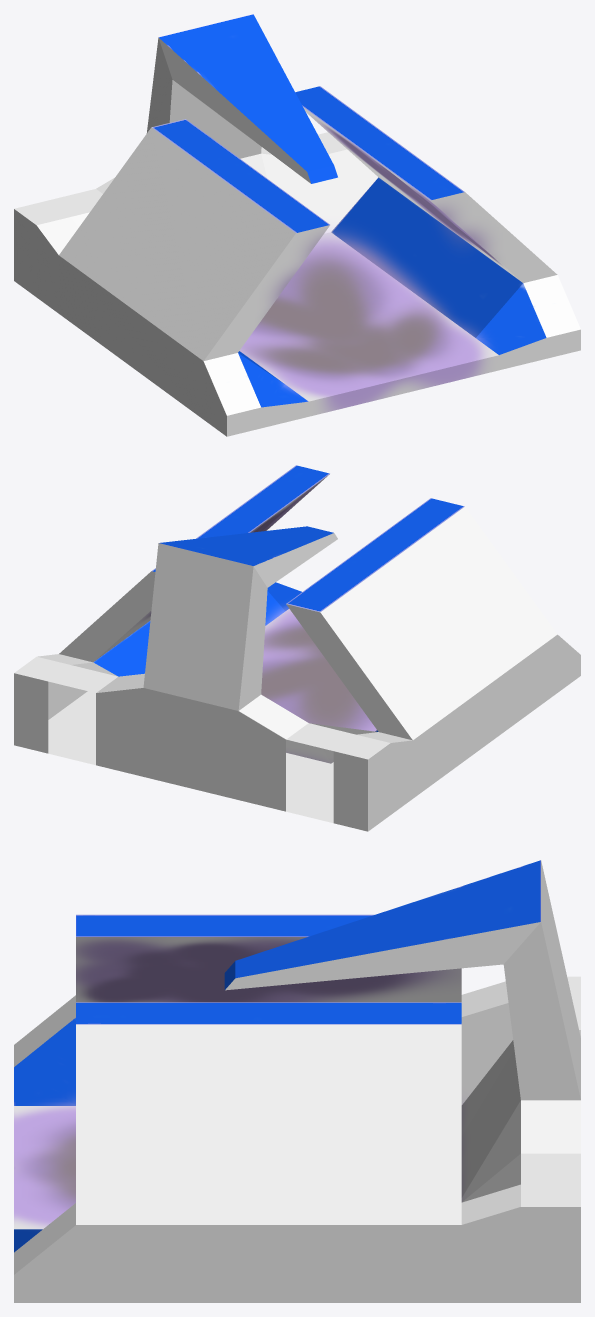
Rendered from Zavod.fbx.
3 views of the same model, one above another, from view 1: azimuth 30°, elevation 25°; view 2: azimuth 150°, elevation 25°; view 3: azimuth 270°, elevation 25° (orthographic). The views are drawn at different scales.
Visible parts, largest first — view 1: Cube; view 2: Cube; view 3: Cube.
Boxes of the visible parts, x1,y1,x2,y2 form: Cube: (14,14,580,436); Cube: (14,465,580,831); Cube: (14,860,580,1302).
Bounding box in the file's own units: 1027 × 618 × 1070.
